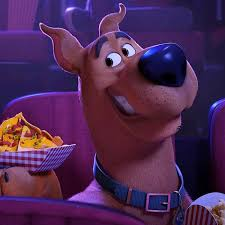scooby: (39, 2, 199, 223)
